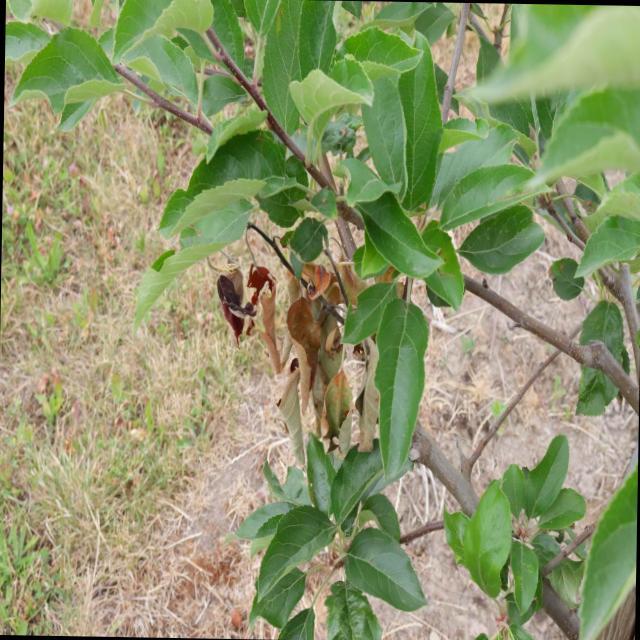-FireBlight-: (210, 238, 336, 414)
